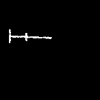double_crochet: (9, 30, 50, 42)
